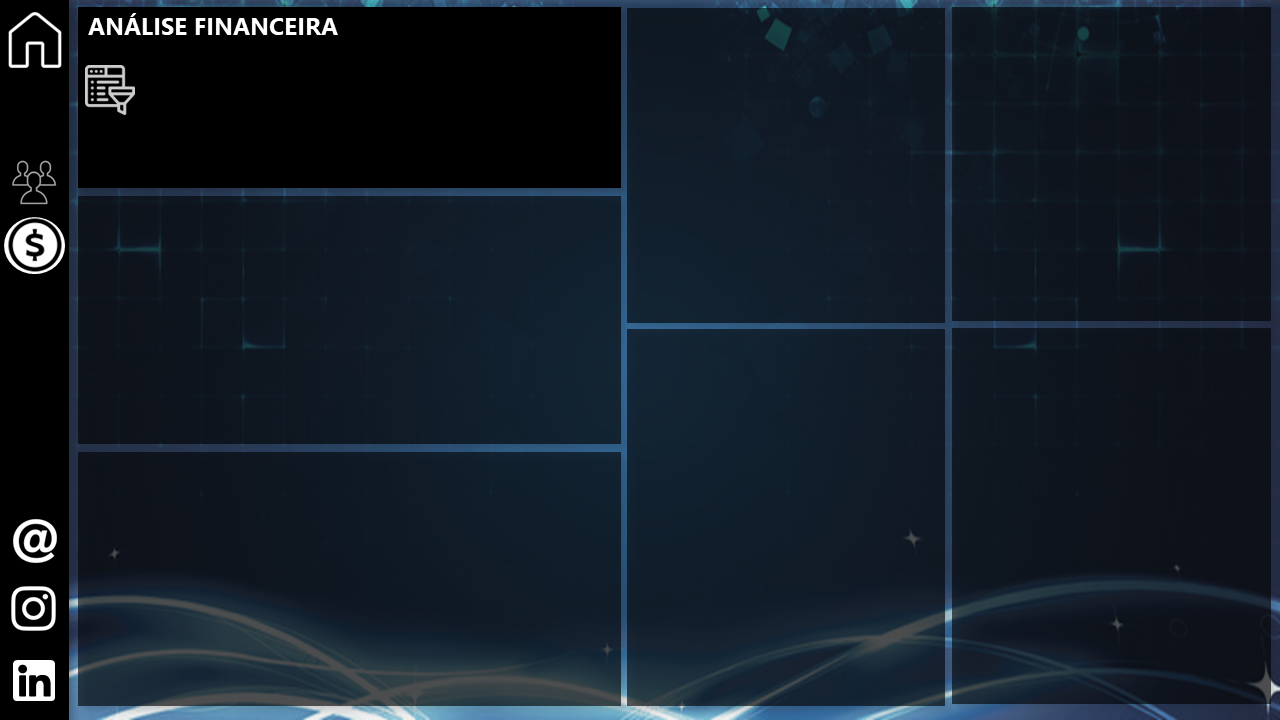

What the dashboard file says about the page in this screenshot:
{"tool":"powerbi","page":{"name":"Análise Financeira","canvas":[1280,720],"ordinal":2},"visuals":[{"type":"actionButton","box":[0,516.3,70.7,49.5],"z":0},{"type":"actionButton","box":[0,577.1,70.7,58],"z":1000},{"type":"actionButton","box":[0,646.4,70.7,53.8],"z":2000},{"type":"columnChart","title":"Salários por Escolaridade","fields":{"Category":["Tab_Colaboradores.Escolaridade"],"Y":["Medidas.Total de Salários"]},"box":[80.6,193.2,539.2,246.9],"z":3000},{"type":"card","title":"Total de Salários","fields":{"Values":["Medidas.Total de Salários"]},"box":[630,7.1,310,84.3],"z":4000},{"type":"columnChart","title":"Salários por Setor","fields":{"Category":["Tab_Colaboradores.Setor"],"Y":["Medidas.Total de Salários"]},"box":[80.7,453,539.8,247],"z":5000},{"type":"barChart","title":"Salários por Cargo","fields":{"Category":["Tab_Colaboradores.Cargo"],"Y":["Medidas.Total de Salários"]},"box":[630.1,328.9,309.6,371.1],"z":6000},{"type":"columnChart","title":"Salários por Cidade","fields":{"Category":["Tab_Colaboradores.Cidade"],"Y":["Medidas.Total de Salários"]},"box":[954.2,328.9,314.5,371.1],"z":7000},{"type":"columnChart","title":"Salários por Faixa Etária","fields":{"Category":["Tab_Colaboradores.Faixa Etária"],"Y":["Medidas.Total de Salários"]},"box":[953.6,7.2,314.5,308.7],"z":8000},{"type":"slicer","fields":{"Values":["Tab_Colaboradores.Setor"]},"box":[128.7,38.2,164.1,63.7],"z":9000},{"type":"slicer","fields":{"Values":["Tab_Colaboradores.Genero"]},"box":[292.8,38.2,164.1,63.7],"z":10000},{"type":"slicer","fields":{"Values":["Tab_Colaboradores.Escolaridade"]},"box":[456.9,38.2,164.1,63.7],"z":11000},{"type":"slicer","fields":{"Values":["Tab_Colaboradores.Idade"]},"box":[130.2,113.3,164.1,63.7],"z":12000},{"type":"slicer","fields":{"Values":["Tab_Colaboradores.Cargo"]},"box":[294.3,113.3,164.1,63.7],"z":13000},{"type":"slicer","fields":{"Values":["Tab_Colaboradores.Cidade"]},"box":[458.4,113.3,164.1,63.7],"z":14000},{"type":"card","title":"Média Salarial","fields":{"Values":["Medidas.Média Salarial"]},"box":[630,118.6,310,81.4],"z":15000},{"type":"card","title":"Total de Funcionários","fields":{"Values":["Medidas.Qtde Funcionários"]},"box":[640,234.3,310,81.4],"z":16000},{"type":"actionButton","box":[0,7.1,70.7,63.7],"z":17000},{"type":"actionButton","box":[0,145.7,70.7,63.7],"z":18000}]}

Visuals, with their boxes in screenshot pixels (x1, y1, x2, y2), scaled from the page's 1280x720 canvas onto the 1280x720 screenshot:
actionButton: bbox(0, 516, 71, 566)
actionButton: bbox(0, 577, 71, 635)
actionButton: bbox(0, 646, 71, 700)
"Salários por Escolaridade" columnChart: bbox(81, 193, 620, 440)
"Total de Salários" card: bbox(630, 7, 940, 91)
"Salários por Setor" columnChart: bbox(81, 453, 620, 700)
"Salários por Cargo" barChart: bbox(630, 329, 940, 700)
"Salários por Cidade" columnChart: bbox(954, 329, 1269, 700)
"Salários por Faixa Etária" columnChart: bbox(954, 7, 1268, 316)
slicer - Tab_Colaboradores.Setor: bbox(129, 38, 293, 102)
slicer - Tab_Colaboradores.Genero: bbox(293, 38, 457, 102)
slicer - Tab_Colaboradores.Escolaridade: bbox(457, 38, 621, 102)
slicer - Tab_Colaboradores.Idade: bbox(130, 113, 294, 177)
slicer - Tab_Colaboradores.Cargo: bbox(294, 113, 458, 177)
slicer - Tab_Colaboradores.Cidade: bbox(458, 113, 622, 177)
"Média Salarial" card: bbox(630, 119, 940, 200)
"Total de Funcionários" card: bbox(640, 234, 950, 316)
actionButton: bbox(0, 7, 71, 71)
actionButton: bbox(0, 146, 71, 209)
